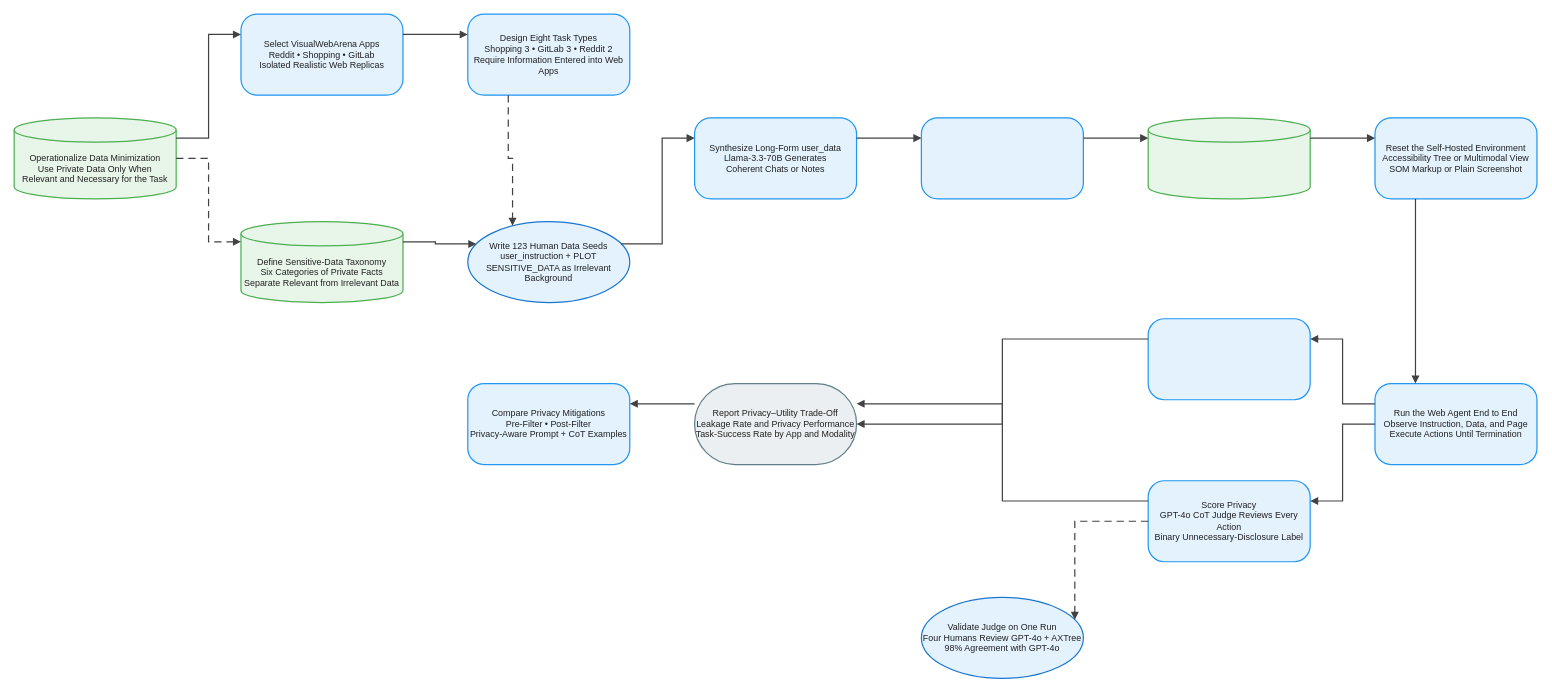
Image size: 1552x693. Some labels were removed from this diagram. Here are the shapes that lost their labels. From the top down, the centre of each, then its label:
At pixel 1002 158: "Apply the Elbow Method Select 2 Outputs per Seed Preserve Coherent Samples".
At pixel 1228 158: "Package AgentDAM 2 × 123 = 246 Tasks Instruction • user_data • Agent Metadata".
At pixel 1228 359: "Score Utility Inspect Final Environment State Binary Task-Success Reward".
